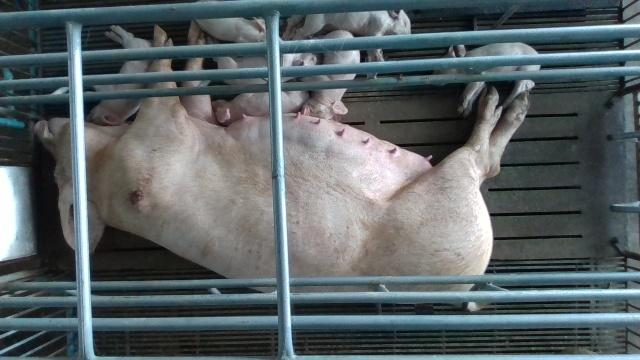piglet: (437, 42, 542, 113), (86, 25, 155, 125), (284, 9, 413, 60), (203, 35, 317, 87), (301, 29, 361, 120), (211, 89, 311, 126), (195, 16, 285, 42)
sow-sleep-lactate: (32, 19, 532, 312)
